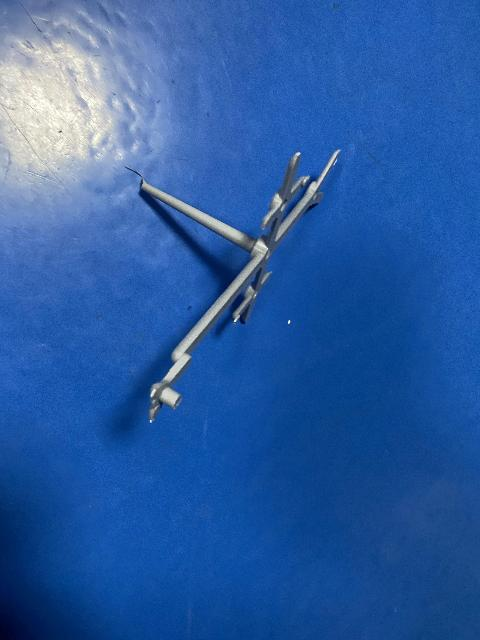Plastik: (111, 129, 352, 432)
